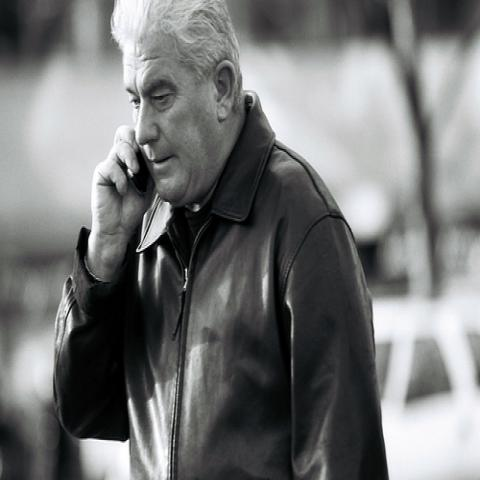car: (370, 291, 479, 478)
